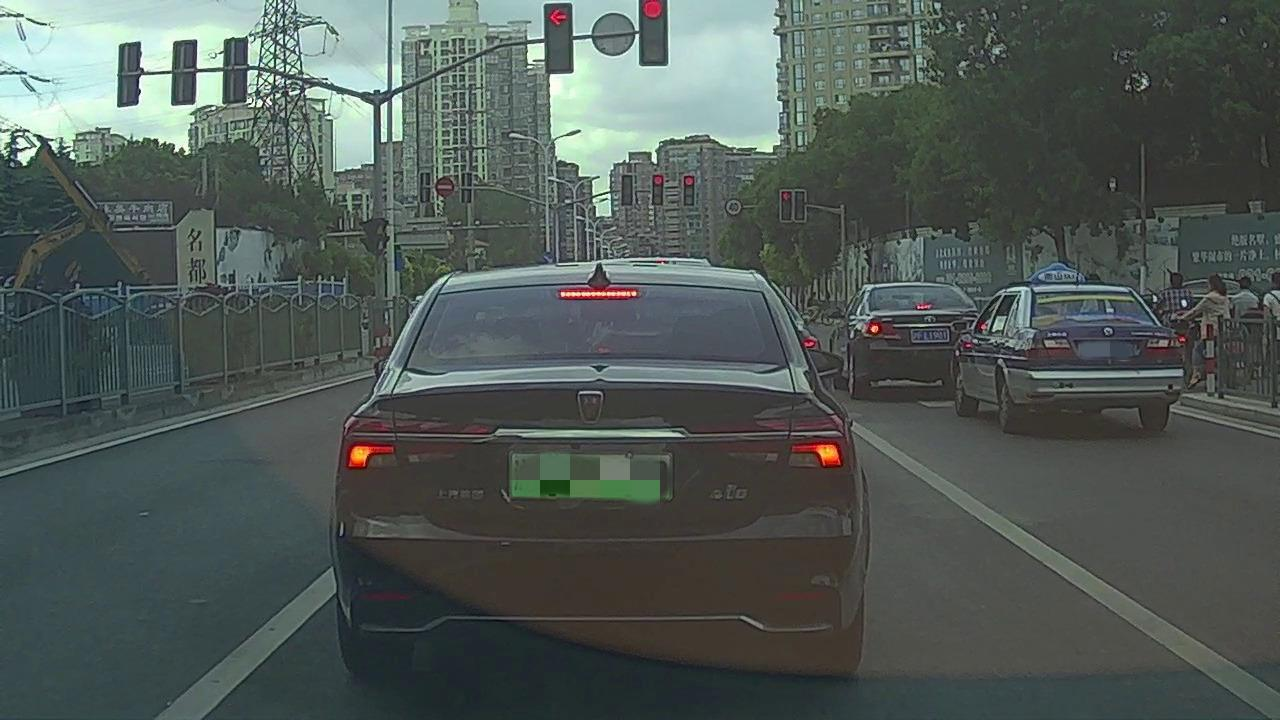traffic_light: (544, 4, 571, 72), (639, 1, 667, 66), (781, 191, 792, 220), (622, 175, 632, 205), (684, 176, 694, 205), (795, 191, 805, 220), (653, 175, 662, 205)
